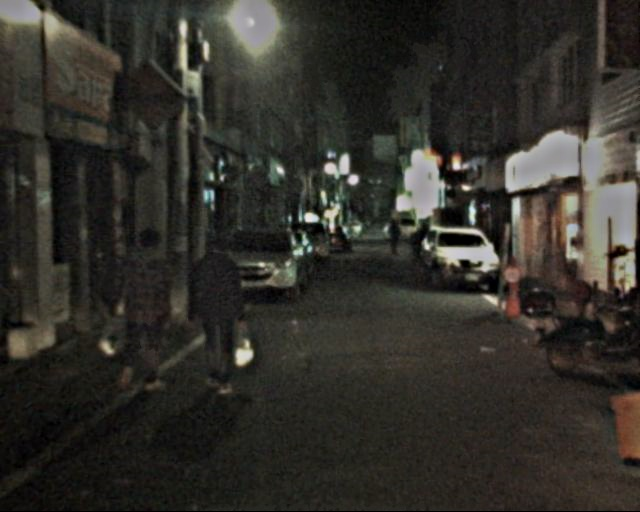person: (108, 228, 182, 398), (186, 231, 251, 397), (386, 220, 403, 258)
